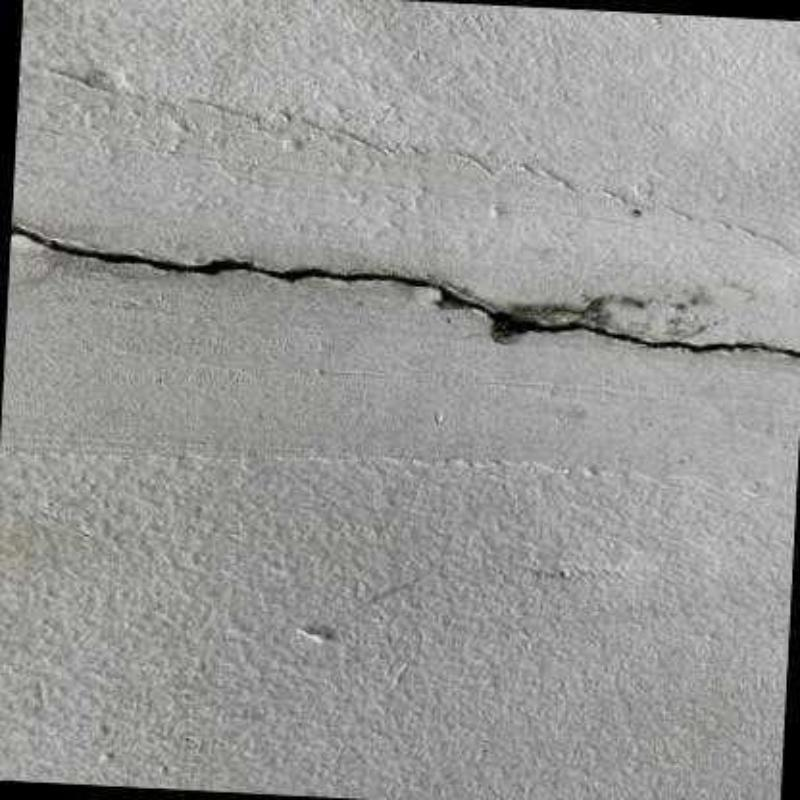crack: (8, 223, 800, 357)
